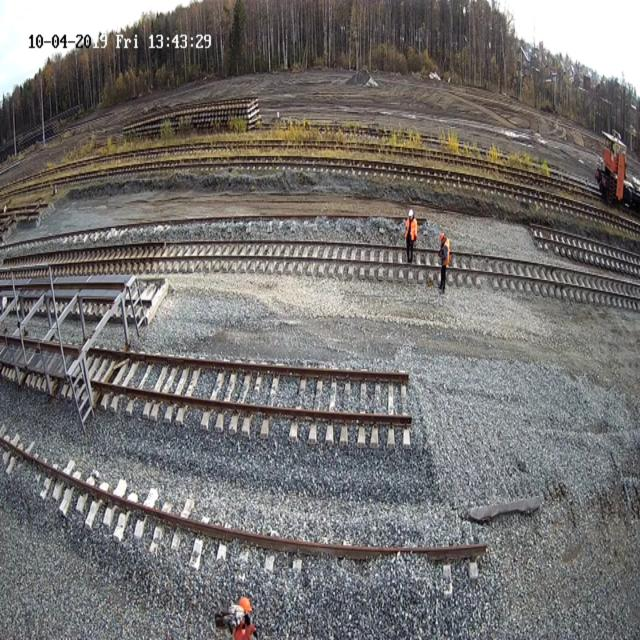Helmet: (238, 596, 253, 613), (408, 208, 413, 218), (440, 232, 445, 241)
Person: (404, 208, 418, 263), (438, 232, 450, 293)
